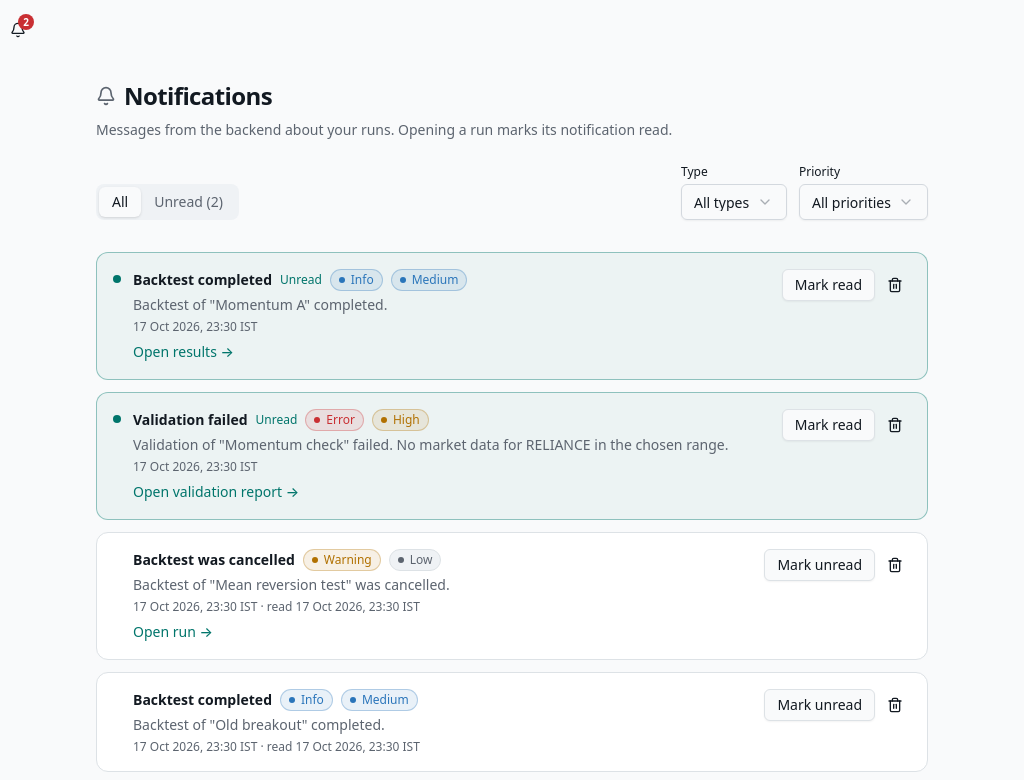
Test case: NotificationsPage › mark read updates the bell, the list and read_at; mark unread undoes it
Expected: the link named "Notifications, 2 unread" is shown, [10,14,34,38]
Click the button "Mark read" in the row of "Backtest of \"Momentum A\" completed." at x=828, y=285, box [782,269,875,301]
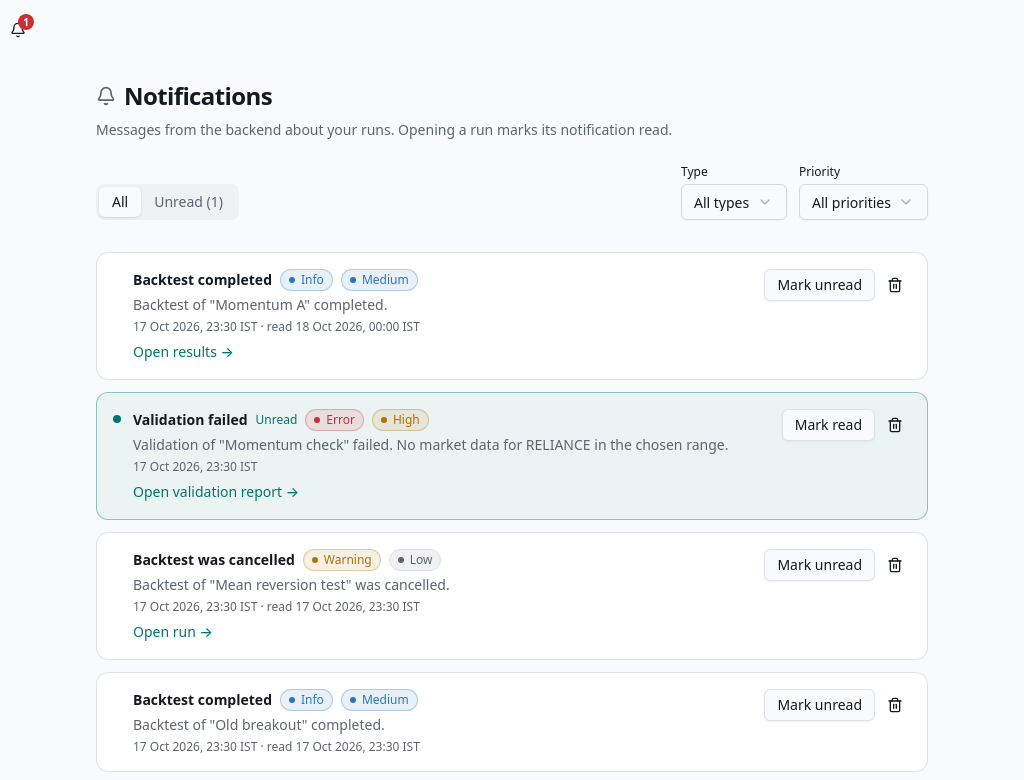
Expected: the 1st list item shows "read", [257,318,420,335]
Expected: the link named "Notifications, 1 unread" is shown, [10,14,34,38]
Expected: the button "Mark unread" in the row of "Backtest of \"Momentum A\" completed." is shown
Click the button "Mark unread" in the row of "Backtest of \"Momentum A\" completed." at x=820, y=285, box [764,269,875,301]
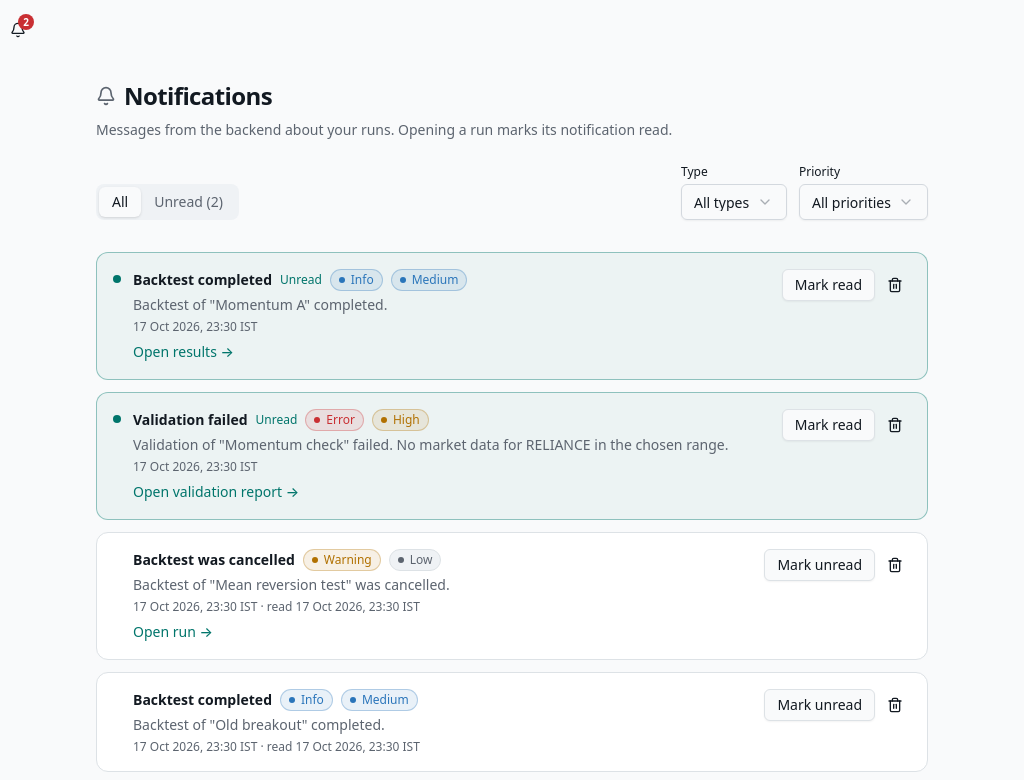
Expected: the link named "Notifications, 2 unread" is shown, [10,14,34,38]
